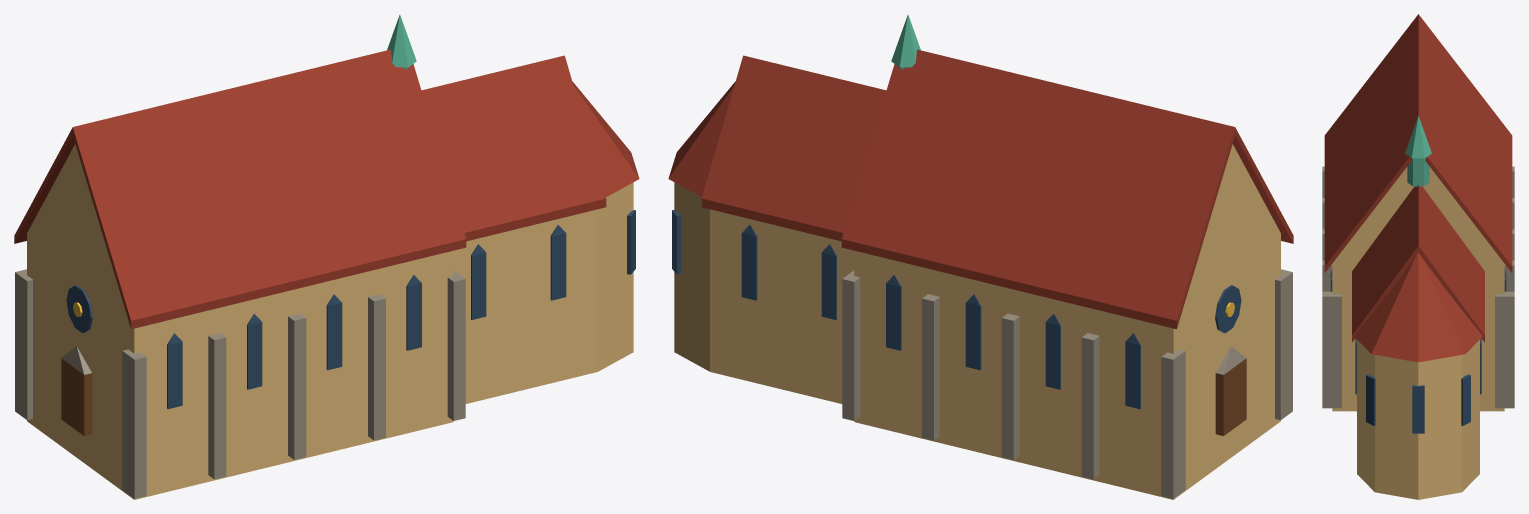
The model's file is church.glb.
3 renders of one model, left to right at view 1: azimuth 30°, elevation 25°; view 2: azimuth 150°, elevation 25°; view 3: azimuth 270°, elevation 25°, orthographic. The views are drawn at different scales.
Visible parts, largest first — view 1: Church; view 2: Church; view 3: Church.
Part boxes in pixels (x1,y1,x2,y2): Church: [14, 14, 639, 499]; Church: [668, 14, 1293, 499]; Church: [1322, 14, 1514, 499].
Bounding box in the file's own units: 42 × 26.5 × 15.6.
